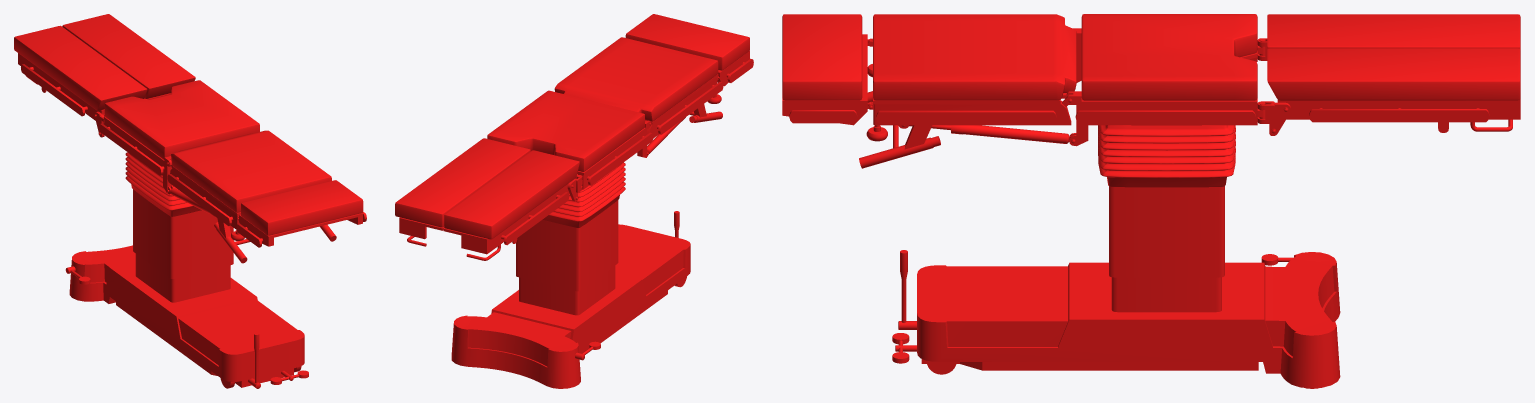
Rendered from SurgeryTable.FBX.
3 renders of one model, left to right at view 1: azimuth 30°, elevation 25°; view 2: azimuth 150°, elevation 25°; view 3: azimuth 270°, elevation 25°, orthographic. The views are drawn at different scales.
Parts seen in each view (by area): view 1: Base, Seg_2, Seg_1, Leg_L_1, Seg_3, Leg_R, Rubber, Arm_3; view 2: Base, Seg_2, Seg_1, Leg_L_1, Leg_R, Seg_3, Rubber; view 3: Base, Seg_2, Seg_1, Leg_R, Seg_3, Leg_L_1, Rubber, Porsh_002, Arm_3.
Boxes of the visible parts, bbox=[...] form: Base: bbox=[69, 189, 304, 388]; Seg_2: bbox=[167, 130, 336, 263]; Seg_1: bbox=[99, 80, 259, 194]; Leg_L_1: bbox=[14, 25, 147, 120]; Seg_3: bbox=[236, 180, 366, 247]; Leg_R: bbox=[62, 14, 195, 99]; Rubber: bbox=[125, 152, 201, 216]; Arm_3: bbox=[248, 332, 260, 388]; Base: bbox=[451, 200, 690, 388]; Seg_2: bbox=[554, 37, 723, 138]; Seg_1: bbox=[487, 90, 653, 189]; Leg_L_1: bbox=[443, 150, 579, 260]; Leg_R: bbox=[395, 138, 530, 246]; Seg_3: bbox=[625, 14, 753, 86]; Rubber: bbox=[542, 162, 625, 227]; Base: bbox=[917, 186, 1340, 388]; Seg_2: bbox=[859, 14, 1076, 168]; Seg_1: bbox=[1066, 14, 1265, 146]; Leg_R: bbox=[1257, 48, 1520, 135]; Seg_3: bbox=[782, 14, 871, 125]; Leg_L_1: bbox=[1267, 14, 1520, 50]; Rubber: bbox=[1098, 125, 1235, 187]; Porsh_002: bbox=[951, 125, 1070, 143]; Arm_3: bbox=[898, 250, 916, 329].
Bounding box in the file's own units: 573 × 884 × 1955.
